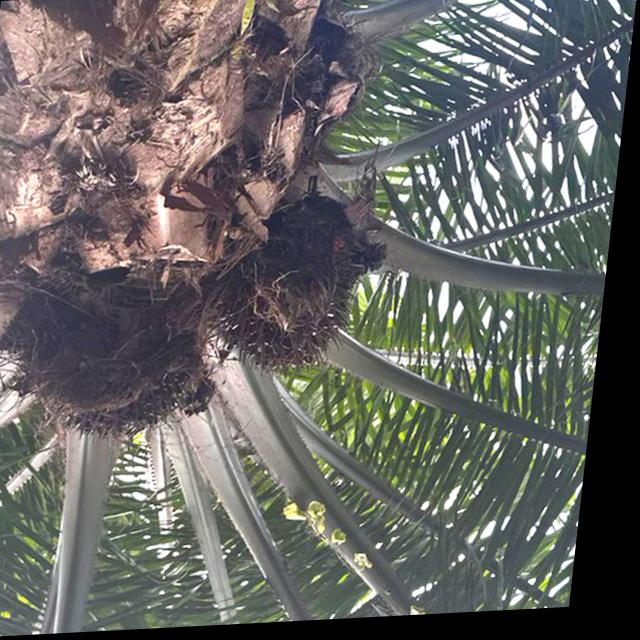ripe: (7, 324, 231, 447), (219, 219, 382, 384)
